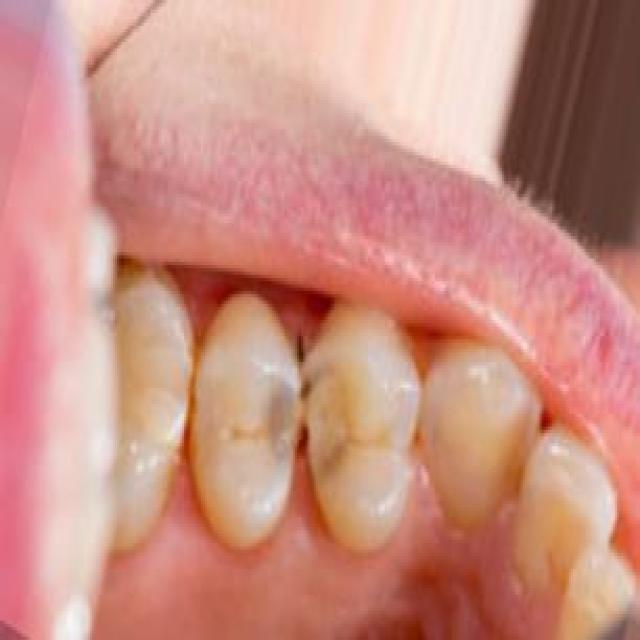caries: (242, 348, 361, 510)
